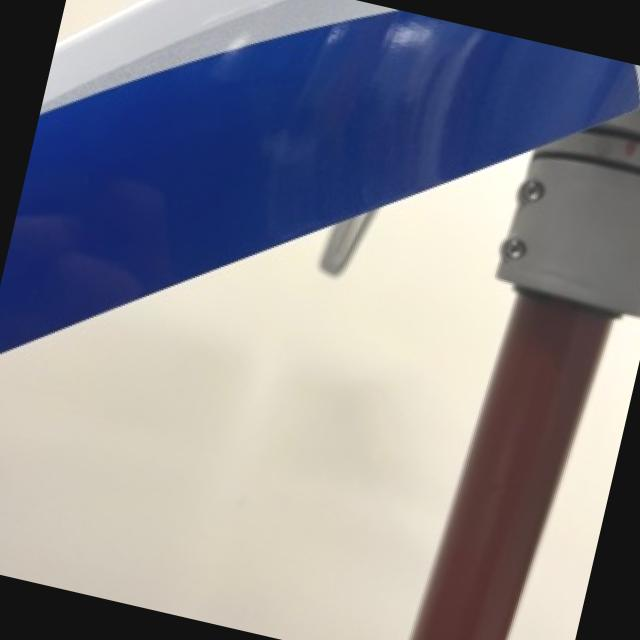healthy: (506, 315, 640, 640)
